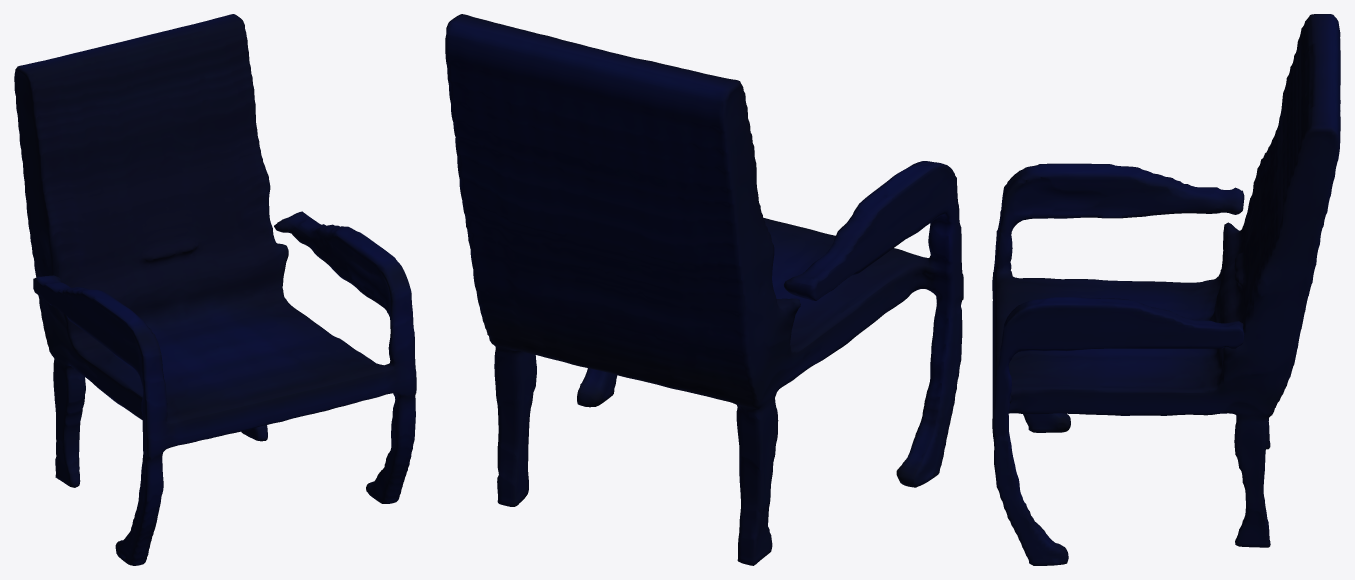
File: A modern blue colored chair with no armrest..glb
The picture shows the model from 3 angles, left to right: view 1: azimuth 30°, elevation 25°; view 2: azimuth 150°, elevation 25°; view 3: azimuth 270°, elevation 25°; orthographic projection. The views are drawn at different scales.
Visible parts, largest first — view 1: A modern blue colored chair with no armrest.; view 2: A modern blue colored chair with no armrest.; view 3: A modern blue colored chair with no armrest..
Boxes of the visible parts, x1=… form: A modern blue colored chair with no armrest.: x1=14, y1=14, x2=416, y2=565; A modern blue colored chair with no armrest.: x1=445, y1=14, x2=963, y2=565; A modern blue colored chair with no armrest.: x1=992, y1=14, x2=1340, y2=565.
Size of the model in its own units: 1.42 by 1.98 by 1.47.
